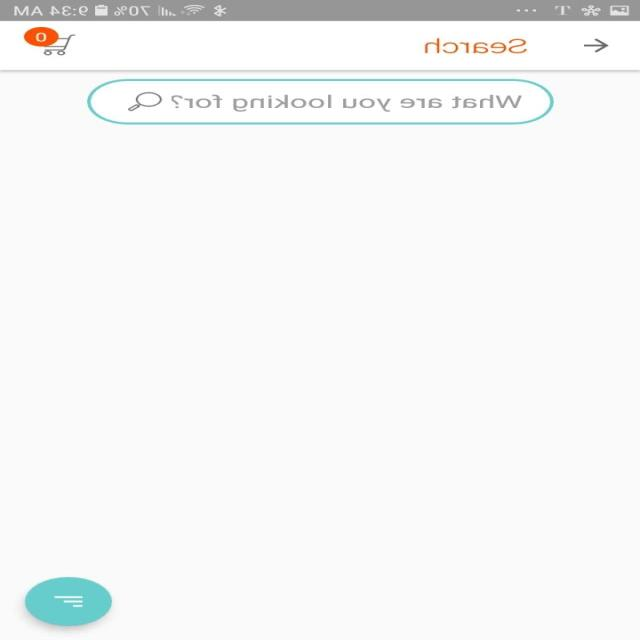EditText: (87, 78, 554, 124)
Icon: (26, 576, 114, 626), (24, 26, 76, 56), (128, 92, 164, 111), (584, 38, 609, 52)
Text: (172, 94, 522, 112), (425, 38, 527, 54)
